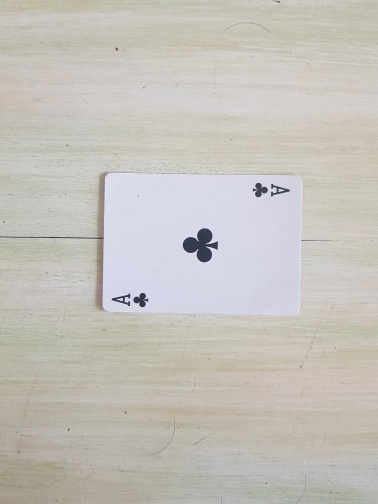ace: (100, 172, 302, 316)
